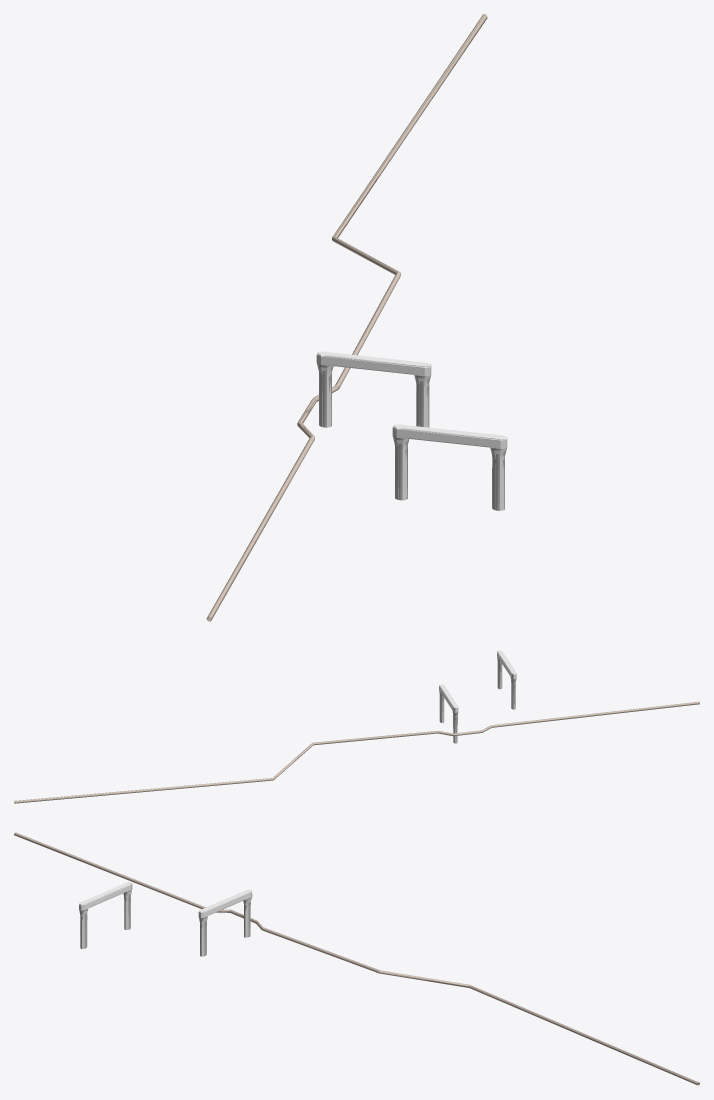
The model's file is pipeline_segment5.dae.
The picture shows the model from 3 angles, top to bottom: view 1: azimuth 30°, elevation 25°; view 2: azimuth 150°, elevation 25°; view 3: azimuth 270°, elevation 25°; orthographic projection. The views are drawn at different scales.
Parts seen in each view (by area): view 1: pipeline_segment5_a2000, pipeline_segment5_a1000; view 2: pipeline_segment5_a2000, pipeline_segment5_a1000; view 3: pipeline_segment5_a2000, pipeline_segment5_a1000.
Part boxes in pixels (bbox=[...]): pipeline_segment5_a2000: bbox=[207, 14, 507, 621]; pipeline_segment5_a1000: bbox=[206, 14, 506, 620]; pipeline_segment5_a2000: bbox=[14, 650, 699, 803]; pipeline_segment5_a1000: bbox=[14, 651, 699, 803]; pipeline_segment5_a2000: bbox=[14, 832, 699, 1085]; pipeline_segment5_a1000: bbox=[14, 834, 699, 1085].
Bounding box in the file's own units: 267 × 308 × 23.05.
